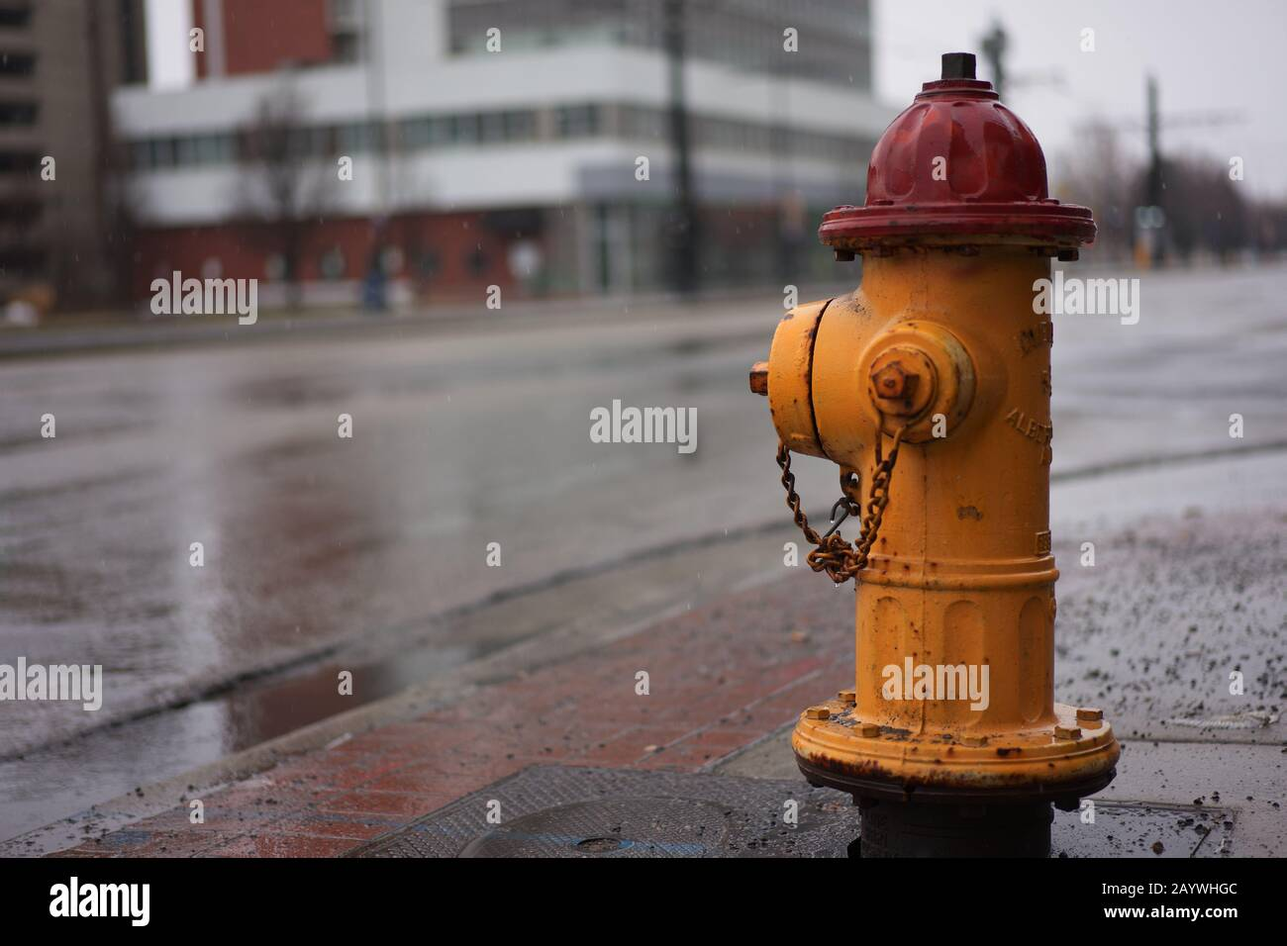FireHydrant: (721, 43, 1165, 843)
